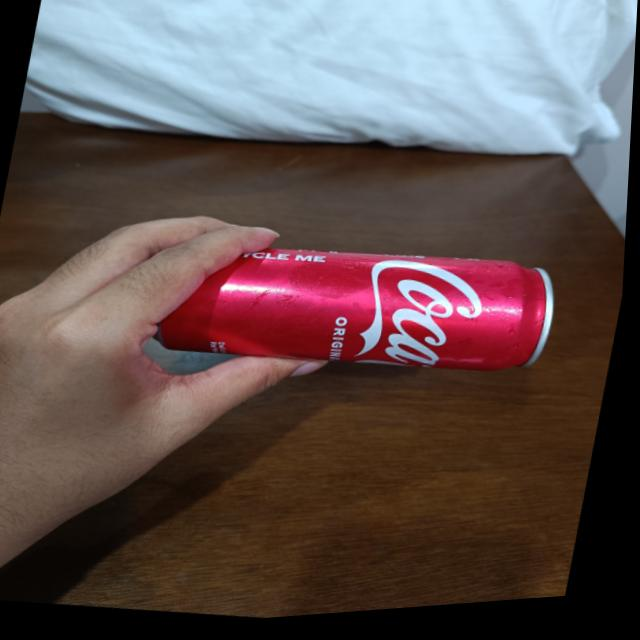coke: (139, 216, 569, 411)
